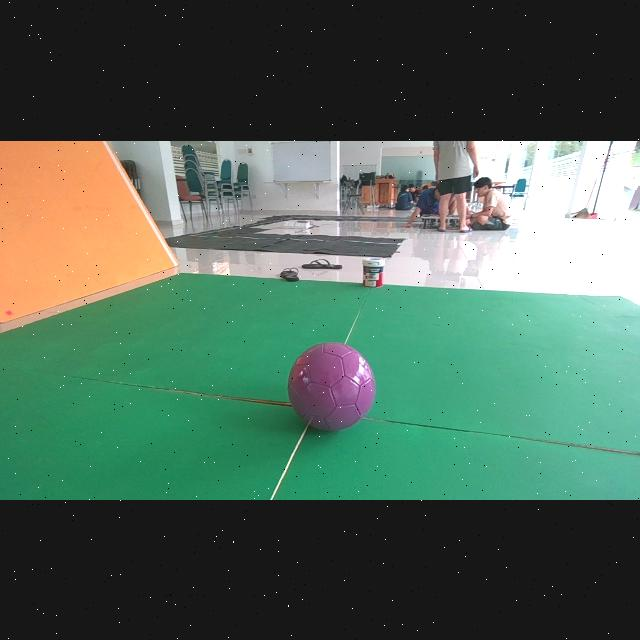P: (288, 342, 375, 431)
